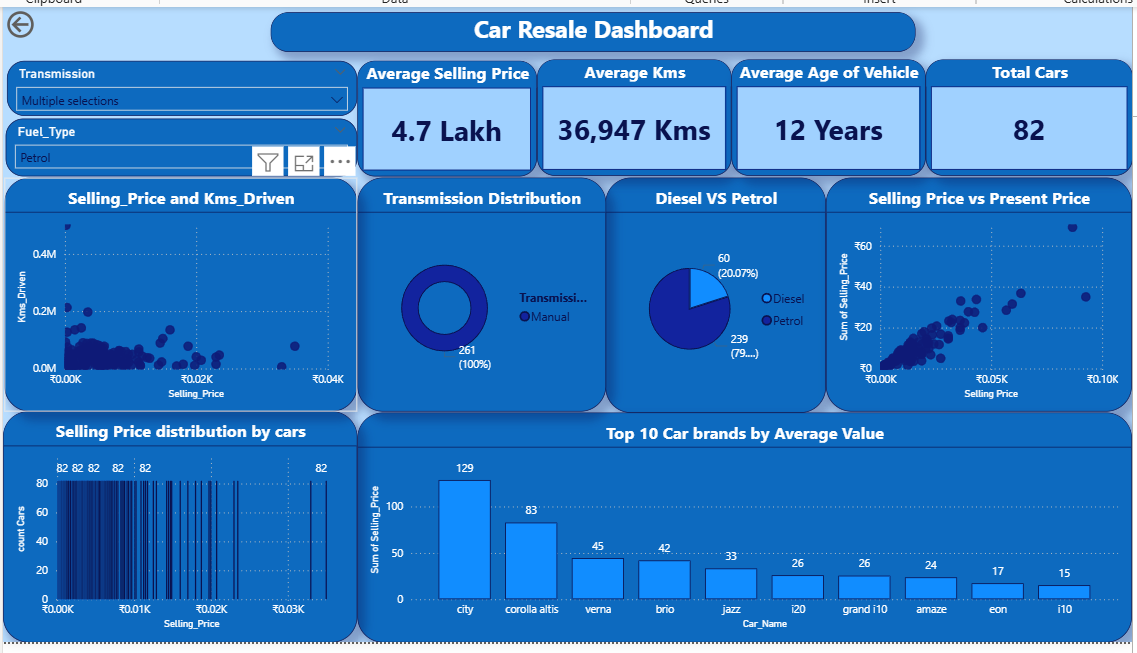

Layout of this report page (visuals, bound fields, positions):
{"tool":"powerbi","page":{"name":"Page 1","canvas":[1280,720],"ordinal":0},"visuals":[{"type":"pieChart","title":"Diesel VS Petrol","fields":{"Y":["Sum(cleaned_car_data.Fuel_Type_Diesel)","Sum(cleaned_car_data.Fuel_Type_Petrol)"]},"box":[683.3,193.3,250,266.7],"z":0},{"type":"kpi","title":"Car Resale Dashboard","fields":{"Indicator":["Sum(cleaned_car_data.Selling_Price)"]},"box":[303.4,5.9,730.3,44.6],"z":1000},{"type":"scatterChart","title":"Selling Price vs Present Price","fields":{"Category":["cleaned_car_data.Selling_Price"],"X":["Sum(cleaned_car_data.Present_Price)"],"Y":["Sum(cleaned_car_data.Selling_Price)"]},"box":[933.3,193.3,346.7,265],"z":2000},{"type":"cardVisual","title":"Average Selling Price","fields":{"Data":["cleaned_car_data.Average Selling Price Card"]},"box":[401.6,61,203.8,130.9],"z":3000},{"type":"cardVisual","title":"Average Kms","fields":{"Data":["cleaned_car_data.Average Kms"]},"box":[605,60,220,131.7],"z":4000},{"type":"cardVisual","title":"Average Age of Vehicle","fields":{"Data":["cleaned_car_data.Average Age"]},"box":[825,60,220,131.7],"z":5000},{"type":"columnChart","title":"Top 10 Car brands by Average Value","fields":{"Category":["daTA.Car_Name"],"Y":["Sum(daTA.Selling_Price)"]},"box":[401.6,459.6,877.6,260.3],"z":6000},{"type":"cardVisual","title":"Total Cars","fields":{"Data":["Count(daTA.Car_Name)"]},"box":[1045,60,235,131.7],"z":7000},{"type":"donutChart","title":"Transmission Distribution","fields":{"Category":["daTA.Transmission"],"Y":["Sum(cleaned_car_data.Transmission_Manual)"]},"box":[401.7,193.3,281.7,265],"z":8000},{"type":"slicer","fields":{"Values":["daTA.Transmission"]},"box":[4.5,61,397.1,62.5],"z":9000},{"type":"actionButton","box":[0,0,100,40],"z":10000},{"type":"clusteredColumnChart","title":"Selling Price distribution by cars","fields":{"Category":["cleaned_car_data.Selling_Price"],"Y":["daTA.count Cars"]},"box":[0,458.1,401.6,261.8],"z":11000},{"type":"slicer","fields":{"Values":["daTA.Fuel_Type"]},"box":[3,126.4,398.6,65.4],"z":12000},{"type":"scatterChart","fields":{"Y":["cleaned_car_data.Kms_Driven"],"X":["cleaned_car_data.Selling_Price"]},"box":[1.7,193.3,400,265],"z":13000}]}

Visuals, with their boxes in screenshot pixels (x1, y1, x2, y2):
"Diesel VS Petrol" pieChart: 602,199,821,433
"Car Resale Dashboard" kpi: 269,35,908,74
"Selling Price vs Present Price" scatterChart: 821,199,1124,431
"Average Selling Price" cardVisual: 355,83,533,198
"Average Kms" cardVisual: 533,82,726,198
"Average Age of Vehicle" cardVisual: 726,82,918,198
"Top 10 Car brands by Average Value" columnChart: 355,432,1124,652
"Total Cars" cardVisual: 918,82,1124,198
"Transmission Distribution" donutChart: 355,199,602,431
slicer - daTA.Transmission: 7,83,355,138
actionButton: 3,30,91,65
"Selling Price distribution by cars" clusteredColumnChart: 3,431,355,652
slicer - daTA.Fuel_Type: 6,140,355,198
scatterChart - cleaned_car_data.Kms_Driven x cleaned_car_data.Selling_Price: 4,199,355,431
